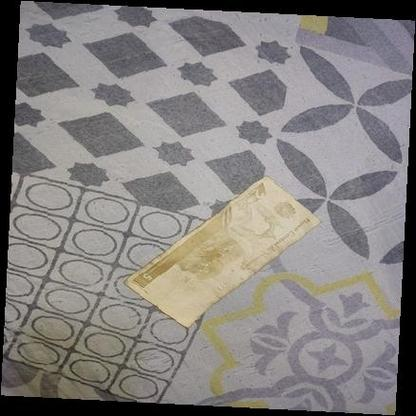five-back-vef: (122, 175, 322, 328)
